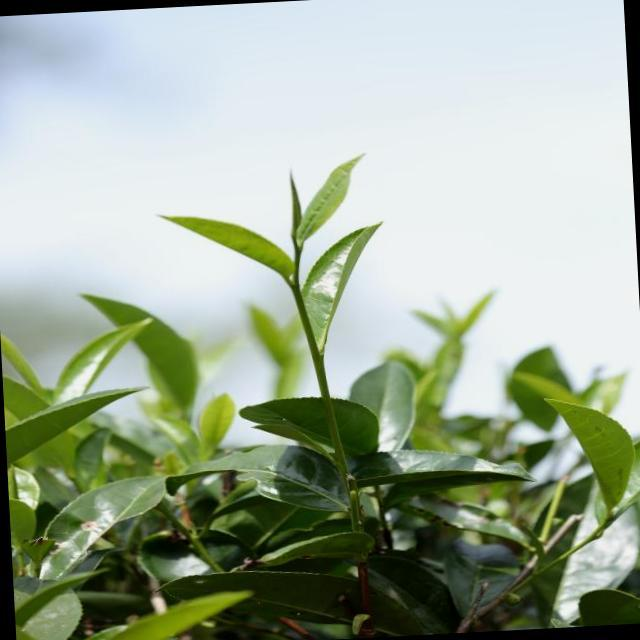Stem: (292, 284, 299, 292)
